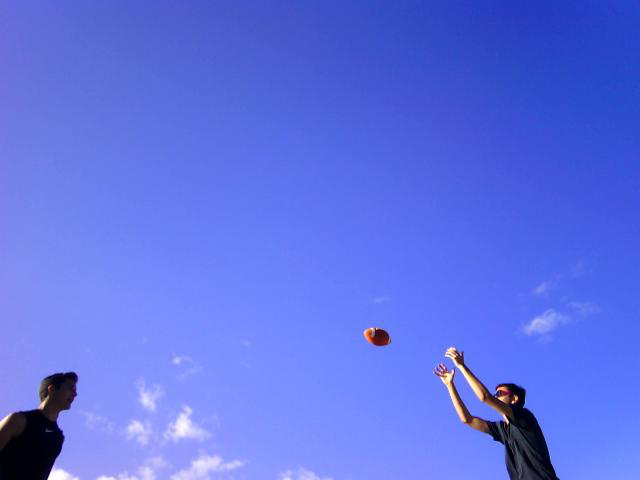football: (362, 326, 399, 353)
